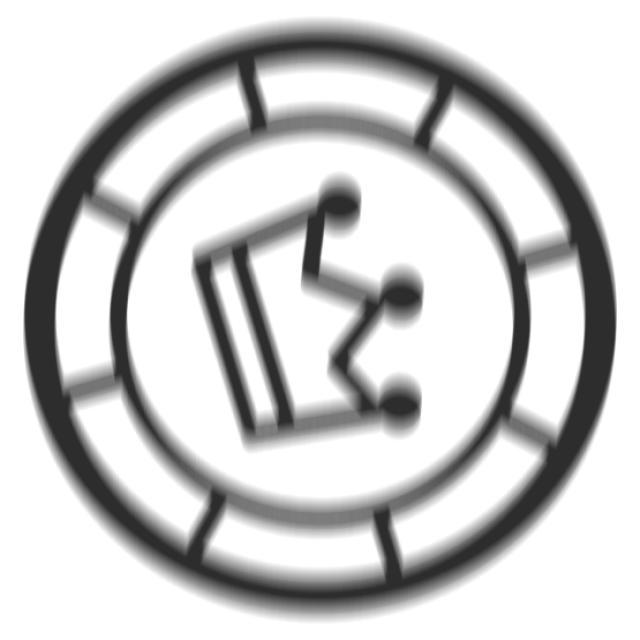coin: (16, 11, 625, 632)
